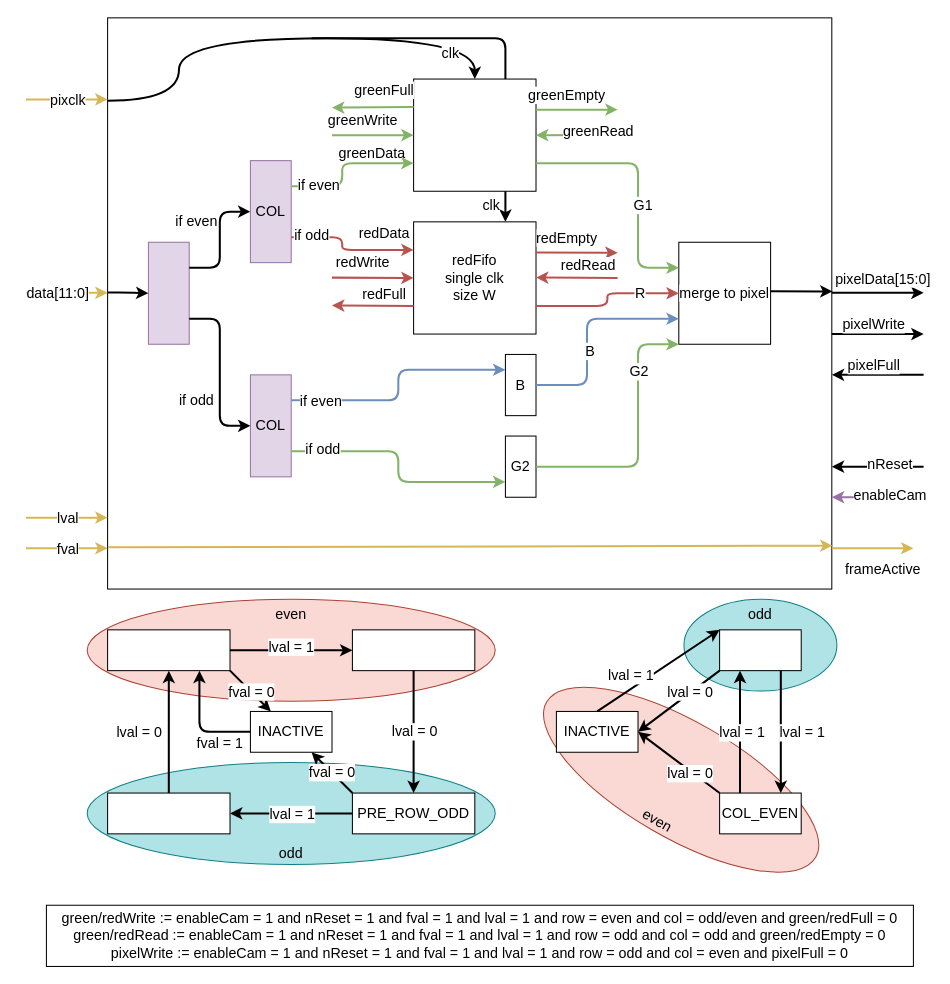
This 950x984 diagram has some shape labels left out. The box of each missing label's shape, as (x1, y1, x2, y2) in pixels:
Camera interface: (107, 17, 832, 589)
COL_ODD: (719, 629, 801, 671)
greenFifo single clk size W: (413, 78, 536, 191)
PRE_ROW_EVEN: (107, 629, 230, 671)
ROW: (147, 241, 189, 344)
ROW_EVEN: (351, 629, 475, 671)
ROW_ODD: (107, 792, 230, 834)
